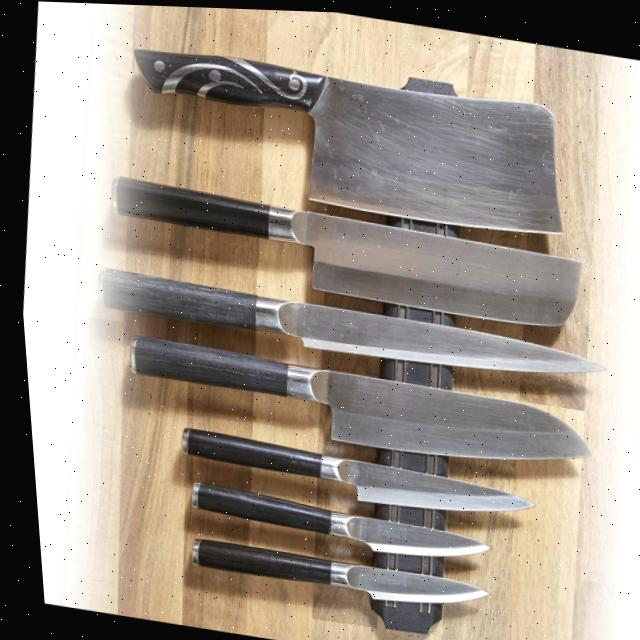knife: (111, 23, 576, 240), (94, 174, 584, 333), (111, 326, 594, 478), (90, 264, 609, 397), (162, 420, 534, 525), (181, 530, 483, 614), (184, 488, 486, 560)
